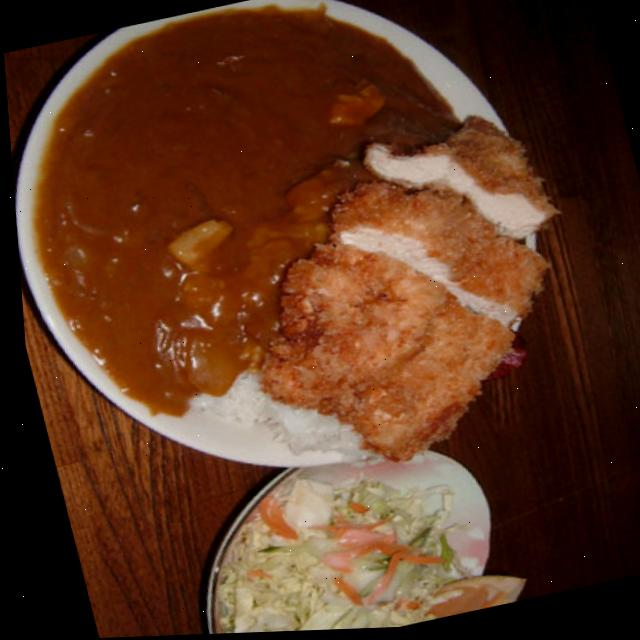猪肉菜式: (0, 0, 634, 531)
